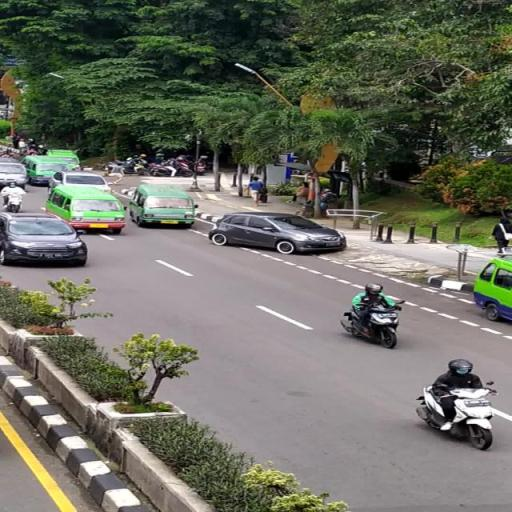Helmet: (446, 357, 473, 379), (361, 279, 386, 300)
Motor: (417, 386, 499, 450), (341, 304, 401, 350)
